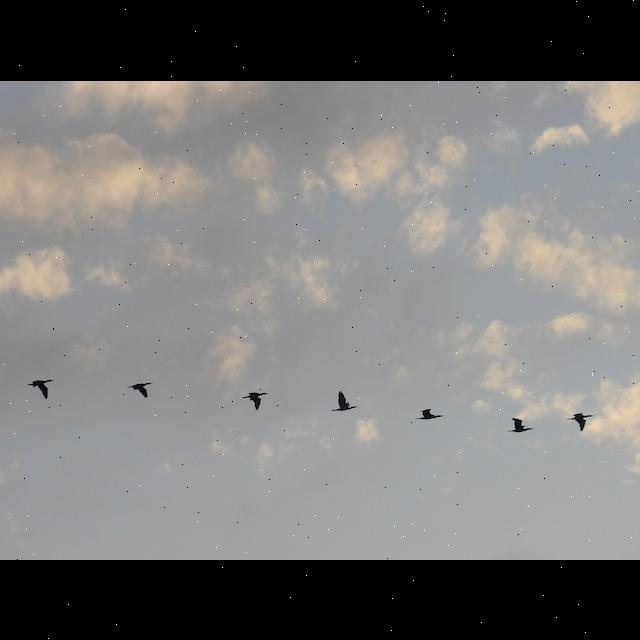cormorant: (329, 390, 358, 412), (126, 376, 154, 396)
